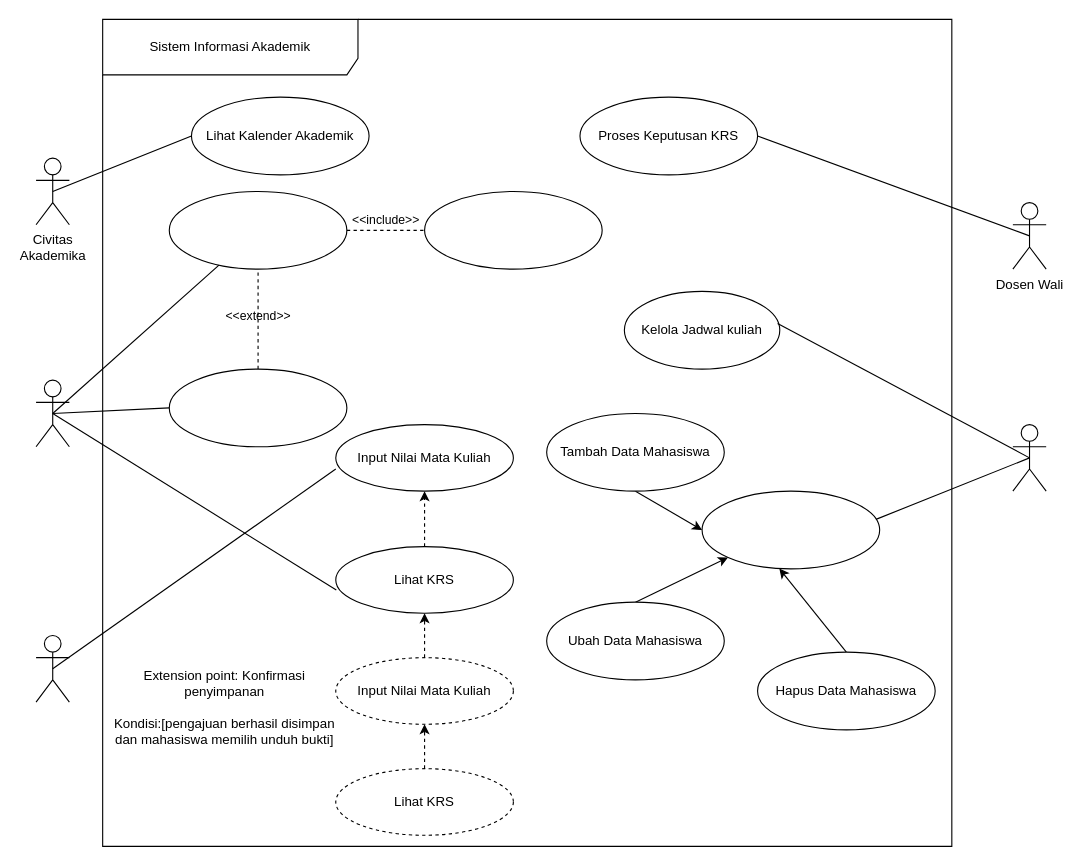
Some shapes in this 1082 by 866 pixel diagram are drawn without their labels. Each missing label, with the centre of its shape:
"Admin Akademik" belongs at pixel 1029 457.
"Ajukan KRS" belongs at pixel 257 229.
"Dosen" belongs at pixel 52 668.
"Kelola Data Mahasiswa" belongs at pixel 790 529.
"Mahasiswa" belongs at pixel 52 413.
"Unduh Bukti Pengajuan KRS" belongs at pixel 257 407.
"Validasi KRS" belongs at pixel 512 229.
